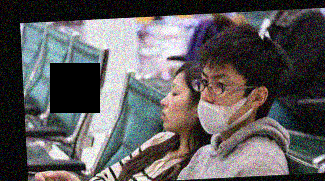with_mask: (194, 68, 247, 133)
without_mask: (159, 80, 193, 131)
